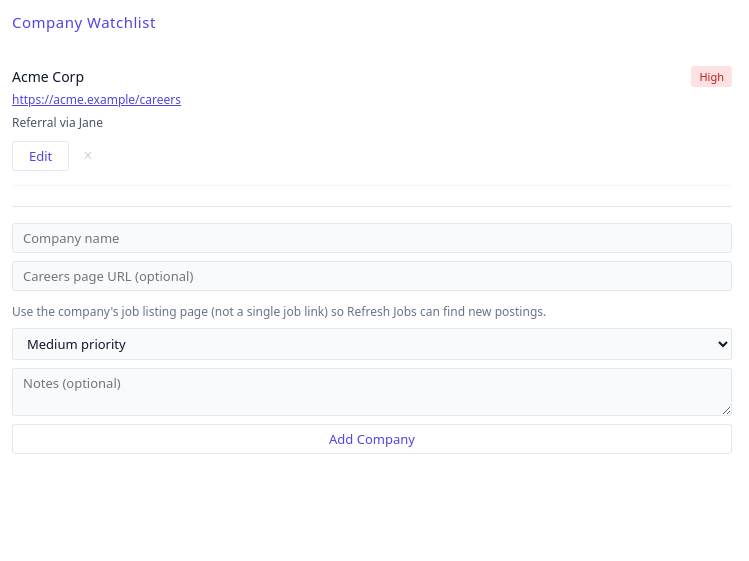
Test: CompaniesList › adds a new company when form submitted
Check: the text "Acme Corp" is shown, box top-left (12, 67), bottom-right (84, 86)
Type "New Co" into the field with placeholder "Company name" at x=372, y=238, box top-left (12, 223), bottom-right (732, 253)
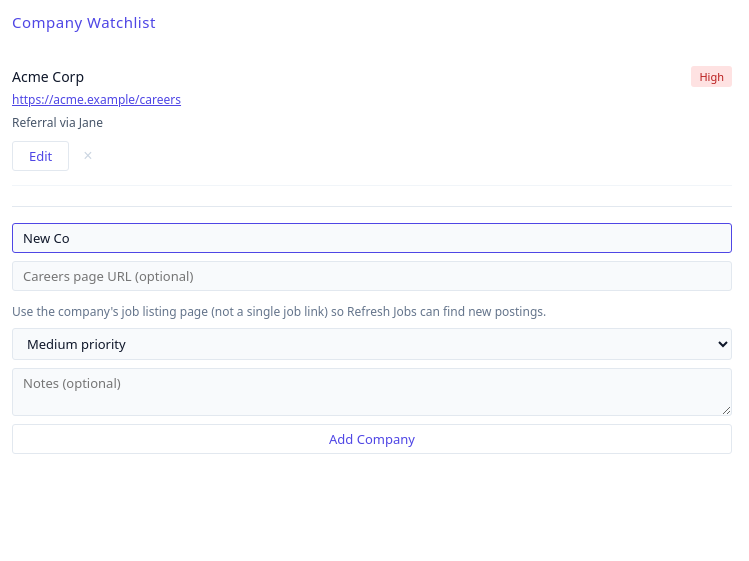
Click the button "Add Company" at x=372, y=439, box top-left (12, 424), bottom-right (732, 454)
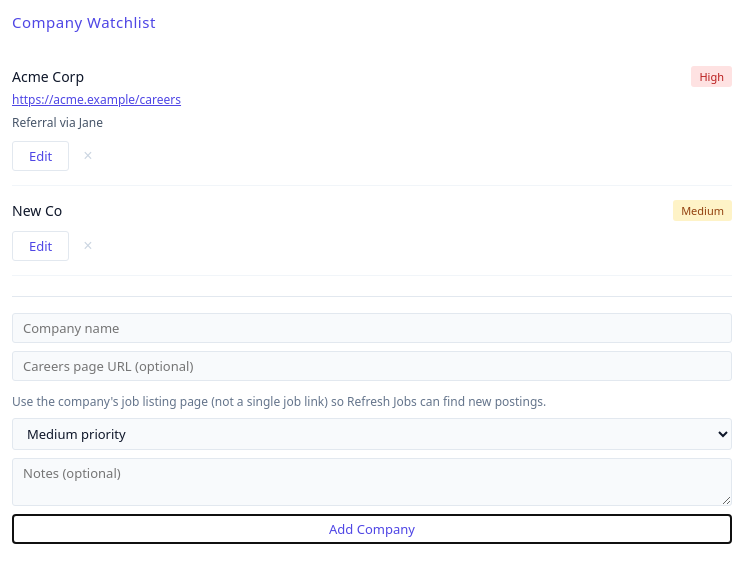
Check: the text "New Co" is shown, box top-left (12, 201), bottom-right (62, 220)
